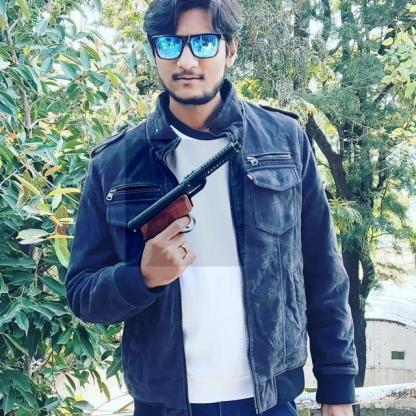handgun: (126, 139, 244, 267)
